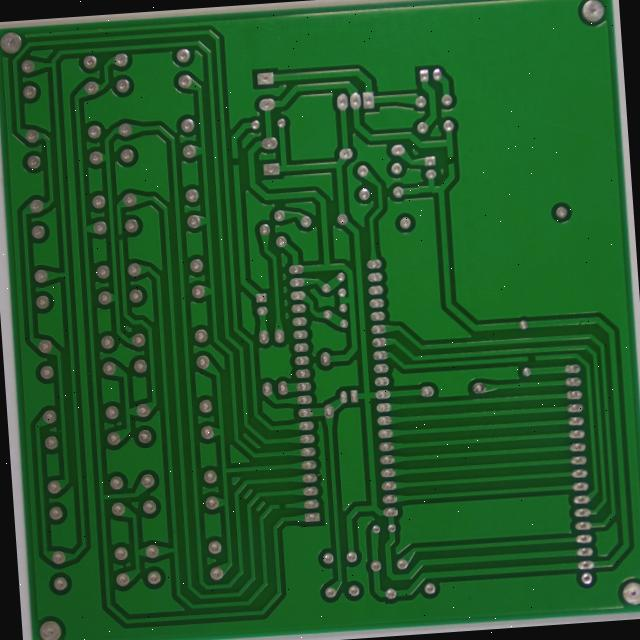open_circuit: (416, 179, 431, 197), (167, 180, 181, 199), (506, 412, 526, 425), (221, 583, 236, 598), (34, 270, 47, 285)
